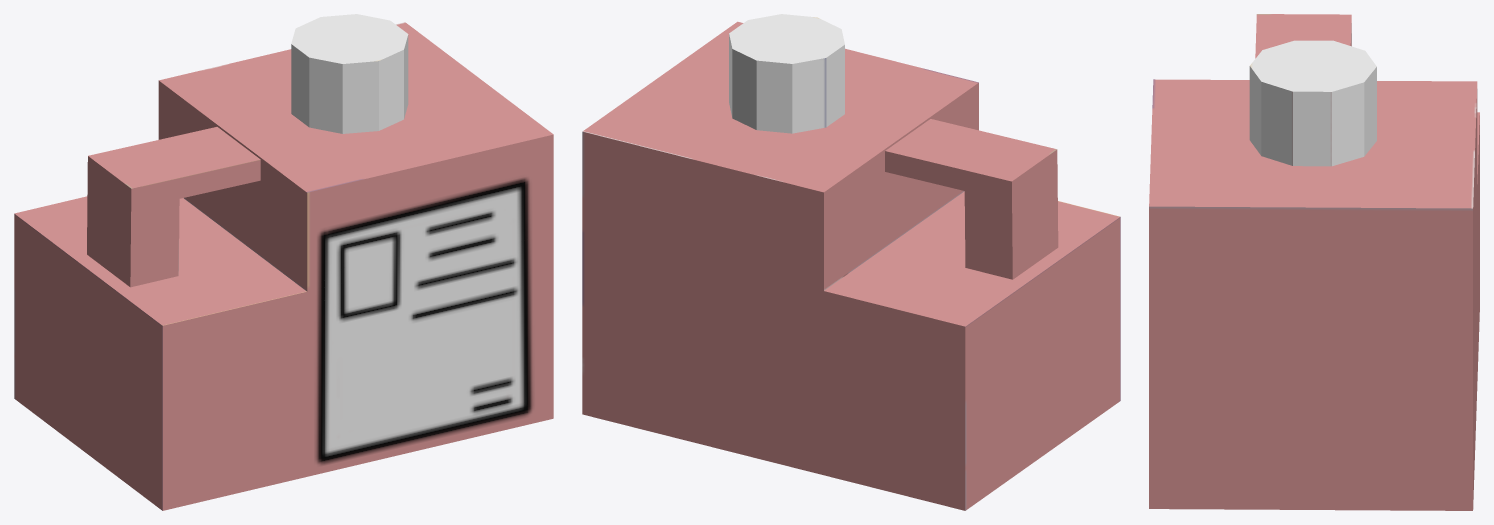
Rendered from prodotto 5.fbx.
The picture shows the model from 3 angles, left to right: view 1: azimuth 30°, elevation 25°; view 2: azimuth 150°, elevation 25°; view 3: azimuth 270°, elevation 25°; orthographic projection. The views are drawn at different scales.
Parts seen in each view (by area): view 1: prodotto_7; view 2: prodotto_7; view 3: prodotto_7.
Boxes of the visible parts, x1,y1,x2,y2 form: prodotto_7: (14, 14, 553, 510); prodotto_7: (582, 14, 1120, 510); prodotto_7: (1149, 14, 1479, 510).
Size of the model in its own units: 0.0114 by 0.00989 by 0.00787.
1 material, 1 textured.
